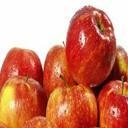apple: (45, 83, 98, 128)
